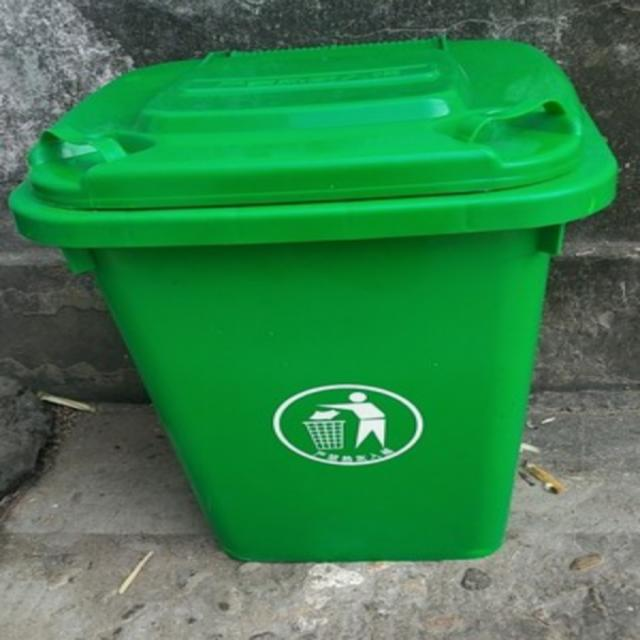ash bin: (15, 37, 621, 560)
